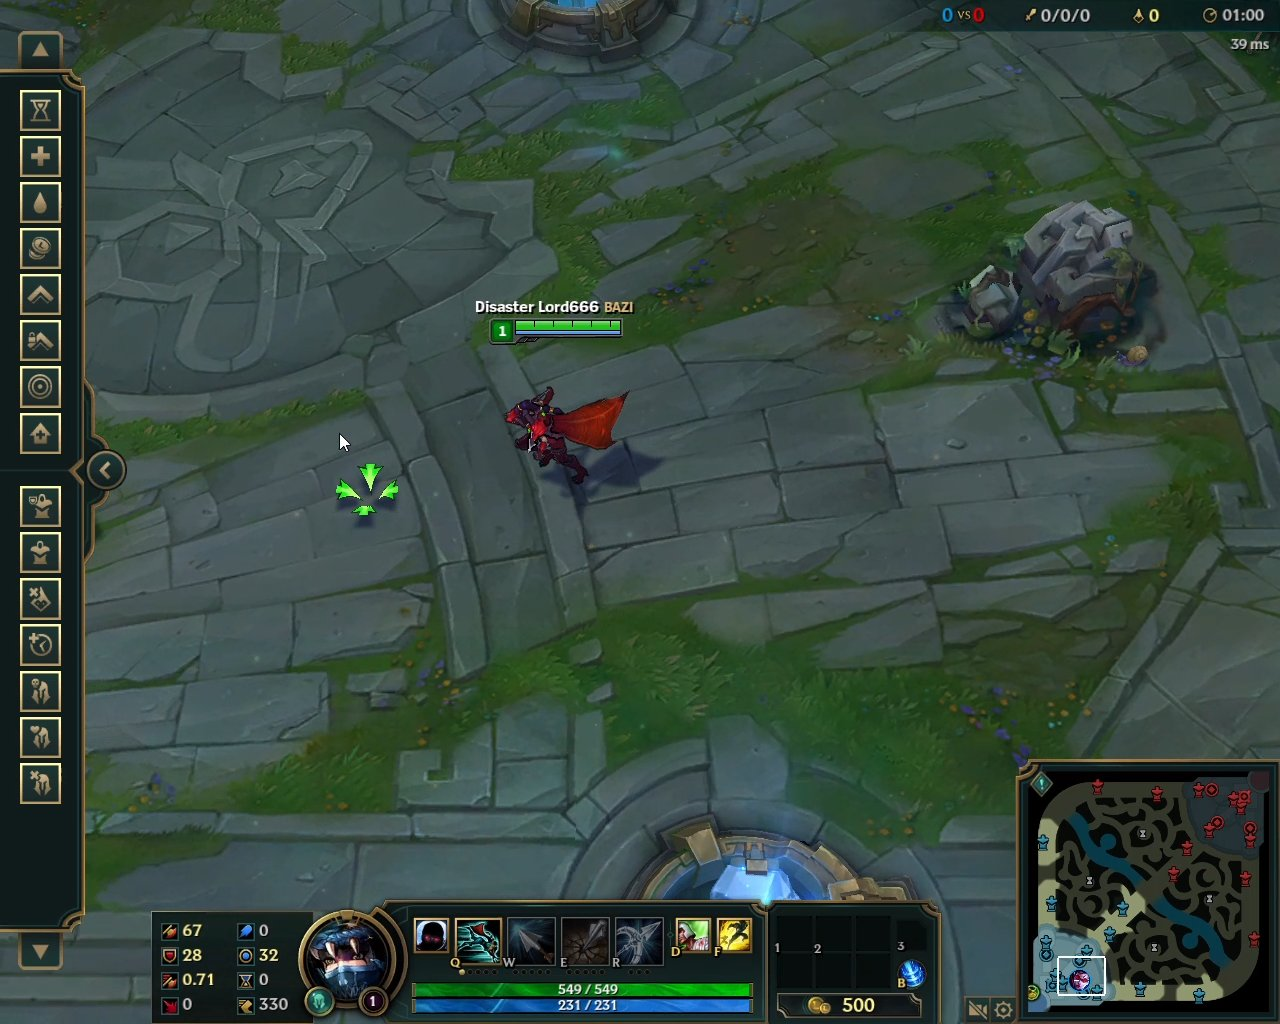Vayne: (499, 385, 641, 490)
